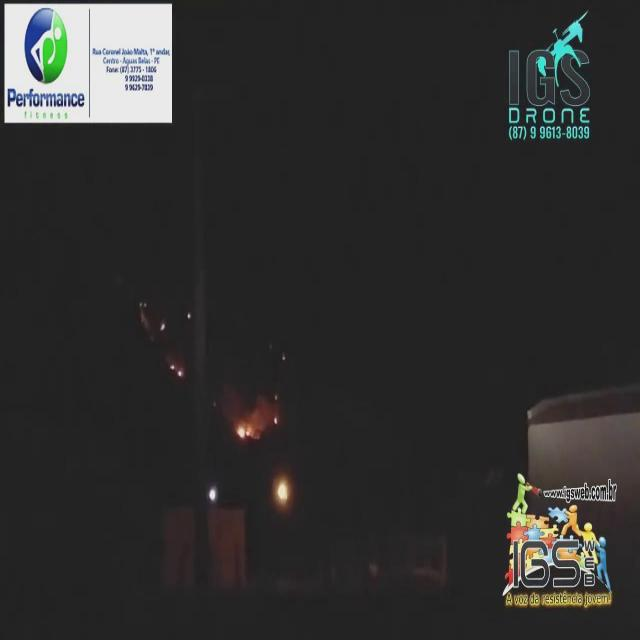Fire: (237, 425, 251, 440)
